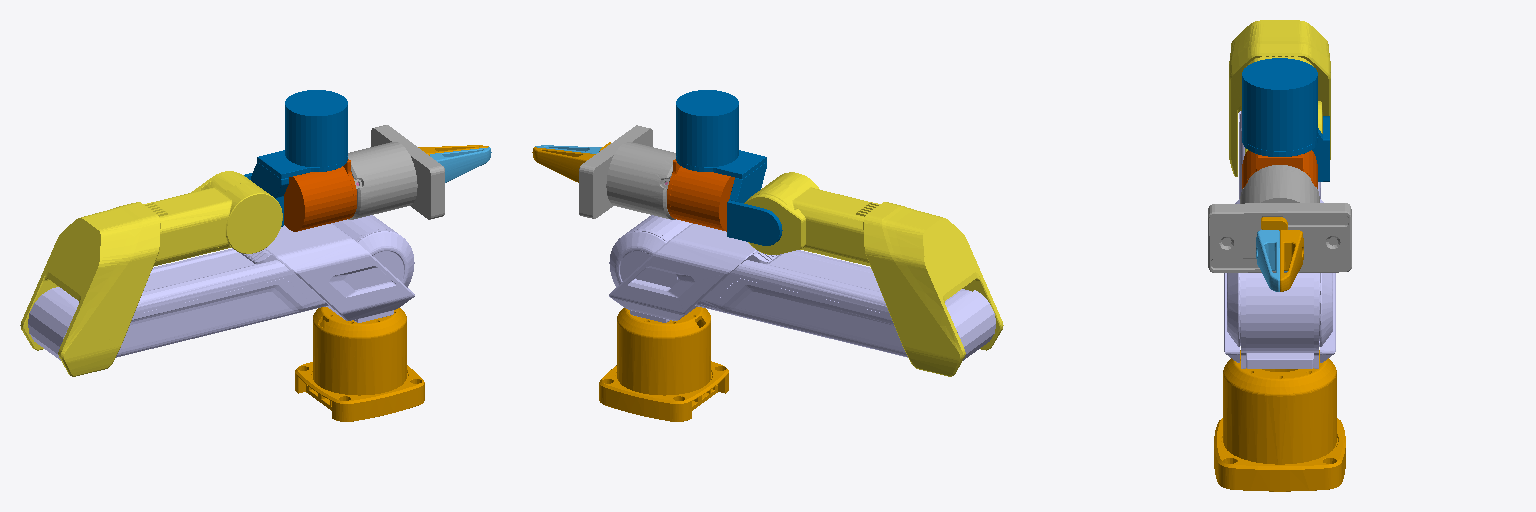
robot.urdf — A1 Single:
<?xml version="1.0" ?>
<!-- =================================================================================== -->
<!-- |    This document was autogenerated by xacro from robot.xacro                    | -->
<!-- |    EDITING THIS FILE BY HAND IS NOT RECOMMENDED                                 | -->
<!-- =================================================================================== -->
<robot name="A1 Single">
  <!-- Base Link -->
  <link name="base_link">
    <inertial>
      <origin xyz="0.00303246421307354 -0.000695340443194854 0.0297996781638517"/>
      <mass value="0.786"/>
      <inertia ixx="0.000209631286775999" ixy="1.3987766340865E-06" ixz="5.68764766805313E-06" iyy="0.000199785107628426" iyz="-3.65982104907021E-06" izz="0.000237444184695321"/>
    </inertial>
    <visual>
      <geometry>
        <mesh filename="package://galaxea_a1_description/meshes/a1_xy/base_link.obj"/>
      </geometry>
    </visual>
    <collision>
      <geometry>
        <mesh filename="package://galaxea_a1_description/meshes/a1_xy/base_link.obj"/>
      </geometry>
    </collision>
  </link>
  <!-- Link 1 -->
  <link name="link1">
    <inertial>
      <origin xyz="4.1065175135883E-07 -0.00198628171247454 0.0468863413356551"/>
      <mass value="0.839"/>
      <inertia ixx="0.000224135392915726" ixy="-1.28206810172038E-09" ixz="7.50235402650185E-09" iyy="0.00026979982869931" iyz="7.49527197322758E-09" izz="0.000218724360467532"/>
    </inertial>
    <visual>
      <origin xyz="0 0 0"/>
      <geometry>
        <mesh filename="package://galaxea_a1_description/meshes/a1_xy/link1.obj"/>
      </geometry>
      <material name="">
        <color rgba="0.823529411764706 0.823529411764706 1 1"/>
      </material>
    </visual>
    <collision>
      <origin xyz="0 0 0"/>
      <geometry>
        <mesh filename="package://galaxea_a1_description/meshes/a1_xy/link1.obj"/>
      </geometry>
    </collision>
  </link>
  <!-- Joint 1: Base to Link1 -->
  <joint name="joint1" type="revolute">
    <origin xyz="0 0 0.08605"/>
    <parent link="base_link"/>
    <child link="link1"/>
    <axis xyz="0 0 1"/>
    <limit effort="27" lower="-2.879795" upper="2.879795" velocity="10.4720"/>
  </joint>
  <!-- Link 2 -->
  <link name="link2">
    <inertial>
      <origin xyz="-0.122673818397923 -0.0295401461831619 0.00364838977156251"/>
      <mass value="1.09"/>
      <inertia ixx="0.000388311522528777" ixy="-2.18086613093501E-05" ixz="8.77434895649448E-06" iyy="0.00274683151904258" iyz="1.19756607314247E-06" izz="0.00278055331308976"/>
    </inertial>
    <visual>
      <origin xyz="0 0 0"/>
      <geometry>
        <mesh filename="package://galaxea_a1_description/meshes/a1_xy/link2.obj"/>
      </geometry>
      <material name="">
        <color rgba="0.823529411764706 0.823529411764706 1 1"/>
      </material>
    </visual>
    <collision>
      <origin xyz="0 0 0"/>
      <geometry>
        <mesh filename="package://galaxea_a1_description/meshes/a1_xy/link2.obj"/>
      </geometry>
    </collision>
  </link>
  <!-- Joint 2: Link1 to Link2 -->
  <joint name="joint2" type="revolute">
    <origin xyz="0 0.03075 0.04925"/>
    <parent link="link1"/>
    <child link="link2"/>
    <axis xyz="0 1 0"/>
    <limit effort="50" lower="0" upper="3.1416" velocity="12.5664"/>
  </joint>
  <link name="link3">
    <inertial>
      <origin xyz="0.0566624793223791 -0.0291316466078999 0.0568018844686509"/>
      <mass value="0.739"/>
      <inertia ixx="0.000257907545256439" ixy="1.02695451350475E-05" ixz="-0.000131693719602983" iyy="0.000671352233244435" iyz="-8.03382534299068E-06" izz="0.000550051611056369"/>
    </inertial>
    <visual>
      <geometry>
        <mesh filename="package://galaxea_a1_description/meshes/a1_xy/a1_x/link3.obj"/>
      </geometry>
    </visual>
    <collision>
      <geometry>
        <mesh filename="package://galaxea_a1_description/meshes/a1_xy/a1_x/link3.obj"/>
      </geometry>
    </collision>
  </link>
  <joint name="joint3" type="revolute">
    <origin xyz="-0.3 0.00025004 0"/>
    <parent link="link2"/>
    <child link="link3"/>
    <axis xyz="0 1 0"/>
    <limit effort="27" lower="-3.3161" upper="0" velocity="10.472"/>
  </joint>
  <link name="link4">
    <inertial>
      <origin xyz="0.0699840030193581 -0.0287504697364447 0.0541968318197228"/>
      <mass value="0.419"/>
      <inertia ixx="6.62006896114572E-05" ixy="-9.3635648969069E-09" ixz="-4.25876556256057E-09" iyy="6.79307239443371E-05" iyz="7.77726883989867E-07" izz="6.69265447808637E-05"/>
    </inertial>
    <visual>
      <geometry>
        <mesh filename="package://galaxea_a1_description/meshes/a1_xy/a1_x/link4.obj"/>
      </geometry>
    </visual>
    <collision>
      <geometry>
        <mesh filename="package://galaxea_a1_description/meshes/a1_xy/a1_x/link4.obj"/>
      </geometry>
    </collision>
  </link>
  <joint name="joint4" type="revolute">
    <origin xyz="0.1747 0.00049739 0.075485"/>
    <parent link="link3"/>
    <child link="link4"/>
    <axis xyz="0 1 0"/>
    <limit effort="14" lower="-1.5708" upper="1.5708" velocity="32.9867"/>
  </joint>
  <link name="link5">
    <inertial>
      <origin xyz="-0.000803198983898074 -2.29028914278118E-07 -0.0402656141956459"/>
      <mass value="0.054"/>
      <inertia ixx="5.80420988761095E-05" ixy="-1.94657864482709E-13" ixz="1.11613844426808E-14" iyy="5.76397557796697E-05" iyz="-3.56183851121823E-11" izz="5.68558379713068E-05"/>
    </inertial>
    <visual>
      <geometry>
        <mesh filename="package://galaxea_a1_description/meshes/a1_xy/a1_x/link5.obj"/>
      </geometry>
    </visual>
    <collision>
      <geometry>
        <mesh filename="package://galaxea_a1_description/meshes/a1_xy/a1_x/link5.obj"/>
      </geometry>
    </collision>
  </link>
  <joint name="joint5" type="revolute">
    <origin xyz="0.08 -0.031498 0.0405"/>
    <parent link="link4"/>
    <child link="link5"/>
    <axis xyz="0 0 1"/>
    <limit effort="14" lower="-1.5708" upper="1.5708" velocity="32.9867"/>
  </joint>
  <link name="link6">
    <inertial>
      <origin xyz="0.00709944426961403 -8.90673146347609E-10 -3.82632235882419E-05"/>
      <mass value="0.031"/>
      <inertia ixx="3.44527427683917E-06" ixy="-2.00656296989553E-13" ixz="-1.26136975189559E-09" iyy="1.82572780689222E-06" iyz="-3.95364679222355E-15" izz="1.81730990577526E-06"/>
    </inertial>
    <visual>
      <geometry>
        <mesh filename="package://galaxea_a1_description/meshes/a1_xy/link6.obj"/>
      </geometry>
    </visual>
    <collision>
      <geometry>
        <mesh filename="package://galaxea_a1_description/meshes/a1_xy/link6.obj"/>
      </geometry>
    </collision>
  </link>
  <joint name="joint6" type="revolute">
    <origin xyz="0.022503 0 -0.0405"/>
    <parent link="link5"/>
    <child link="link6"/>
    <axis xyz="1 0 0"/>
    <limit effort="14" lower="-2.8798" upper="2.8798" velocity="32.9867"/>
  </joint>
  <link name="gripper_base">
    <inertial>
      <origin xyz="-0.0311072323899603 1.17979991887118E-08 7.93394685505433E-08"/>
      <mass value="0.604"/>
      <inertia ixx="0.000175881544189539" ixy="-6.06026450851008E-11" ixz="5.30643405624365E-10" iyy="9.86379407701341E-05" iyz="-8.18686692495892E-08" izz="0.000165121280580029"/>
    </inertial>
    <visual>
      <geometry>
        <mesh filename="package://galaxea_a1_description/meshes/gripper/gripper_link.obj"/>
      </geometry>
    </visual>
    <collision>
      <geometry>
        <mesh filename="package://galaxea_a1_description/meshes/gripper/gripper_link.obj"/>
      </geometry>
    </collision>
  </link>
  <link name="finger1">
    <inertial>
      <origin xyz="-0.0195895895552112 -0.0151136845490034 0.00542254359093075"/>
      <mass value="0.027"/>
      <inertia ixx="2.40569358477209E-06" ixy="3.9898459609048E-07" ixz="5.12152762183641E-08" iyy="5.71079298307516E-06" iyz="6.19467902008363E-08" izz="6.48482183930358E-06"/>
    </inertial>
    <visual>
      <geometry>
        <mesh filename="package://galaxea_a1_description/meshes/gripper/finger.obj"/>
      </geometry>
    </visual>
    <collision>
      <geometry>
        <mesh filename="package://galaxea_a1_description/meshes/gripper/finger.obj"/>
      </geometry>
    </collision>
  </link>
  <joint name="gripper_joint" type="prismatic">
    <origin xyz="0.03689 0.013453 0.00012059"/>
    <parent link="gripper_base"/>
    <child link="finger1"/>
    <axis xyz="0 1 0"/>
    <limit effort="100" lower="0" upper="0.05" velocity="0.25"/>
  </joint>
  <link name="finger2">
    <inertial>
      <origin xyz="-0.0195895857999098 0.0151136893508115 -0.00542254357246619"/>
      <mass value="0.027"/>
      <inertia ixx="2.40569340151687E-06" ixy="-3.98983784827124E-07" ixz="-5.12152683073981E-08" iyy="5.71079321589929E-06" iyz="6.19467953006536E-08" izz="6.48482187274222E-06"/>
    </inertial>
    <visual>
      <geometry>
        <mesh filename="package://galaxea_a1_description/meshes/gripper/finger.obj" scale="1 -1 -1"/>
      </geometry>
    </visual>
    <collision>
      <geometry>
        <mesh filename="package://galaxea_a1_description/meshes/gripper/finger.obj" scale="1 -1 -1"/>
      </geometry>
    </collision>
  </link>
  <joint name="gripper_joint2" type="prismatic">
    <origin xyz="0.03689 -0.013453 -0.00012059"/>
    <parent link="gripper_base"/>
    <child link="finger2"/>
    <axis xyz="0 -1 0"/>
    <limit effort="100" lower="0" upper="0.05" velocity="0.25"/>
    <mimic joint="gripper_joint" multiplier="1" offset="0"/>
  </joint>
  <link name="gripper_center"/>
  <joint name="gripper_center_joint" type="fixed">
    <origin xyz="0.03689 0 -0.00012059"/>
    <parent link="gripper_base"/>
    <child link="gripper_center"/>
  </joint>
  <joint name="gripper_base_joint" type="fixed">
    <origin xyz="0.08165 0 0"/>
    <parent link="link6"/>
    <child link="gripper_base"/>
  </joint>
</robot>

--- What the picture shows (computed from the rendered views, not written in the file) ---
3 views of the same robot in one strip: view 1: azimuth 30°, elevation 25°; view 2: azimuth 150°, elevation 25°; view 3: azimuth 270°, elevation 25° (orthographic).
Robot: A1 Single — 11 links, 10 joints (6 revolute, 2 prismatic, 2 fixed); root link base_link; default pose: all joints at 0.
Links seen in each view (by area): view 1: link2, link3, base_link, gripper_base, link4, link5, link1, finger2; view 2: link2, link3, base_link, link4, gripper_base, link5, link1, finger1; view 3: base_link, gripper_base, link4, link1, link3, link2, finger1, link5, finger2.
Link boxes in pixels (box(x1,y1,x2,y2)): link2: box(28, 223, 414, 360); link3: box(20, 171, 282, 376); base_link: box(295, 307, 424, 421); gripper_base: box(348, 125, 444, 219); link4: box(244, 90, 347, 226); link5: box(284, 159, 356, 231); link1: box(332, 215, 397, 322); finger2: box(430, 147, 491, 182); link2: box(609, 223, 995, 360); link3: box(744, 172, 1003, 376); base_link: box(599, 307, 728, 421); link4: box(676, 90, 782, 245); gripper_base: box(579, 125, 675, 219); link5: box(667, 159, 734, 231); link1: box(623, 215, 691, 322); finger1: box(532, 142, 610, 182); base_link: box(1214, 350, 1345, 491); gripper_base: box(1208, 165, 1351, 272); link4: box(1242, 58, 1329, 181); link1: box(1240, 273, 1319, 368); link3: box(1229, 20, 1330, 176); link2: box(1224, 111, 1335, 362); finger1: box(1261, 217, 1303, 291); link5: box(1242, 150, 1317, 188); finger2: box(1256, 230, 1287, 291).
Size in the robot's own frame: 0.4714 by 0.1083 by 0.3025 metres.
Meshes: 9 distinct files referenced, 10 mesh visuals loaded (9 OBJ).